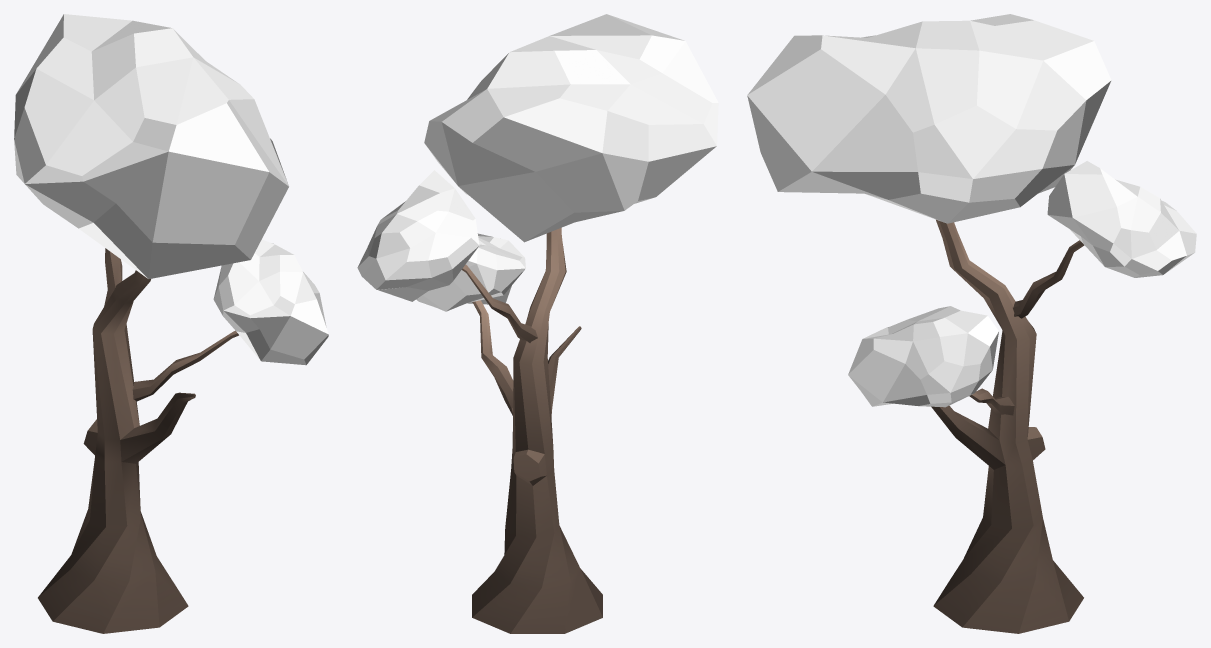
File: m_MapleTreeSimple.fbx
The picture shows the model from 3 angles, left to right: view 1: azimuth 30°, elevation 25°; view 2: azimuth 150°, elevation 25°; view 3: azimuth 270°, elevation 25°; orthographic projection. The views are drawn at different scales.
Visible parts, largest first — view 1: MapleTreeSimple; view 2: MapleTreeSimple; view 3: MapleTreeSimple.
Boxes of the visible parts, left/top/right/bottom form: MapleTreeSimple: left=14, top=14, right=328, bottom=633; MapleTreeSimple: left=357, top=14, right=718, bottom=633; MapleTreeSimple: left=747, top=14, right=1196, bottom=633.
Bounding box in the file's own units: 221 × 400 × 280.
